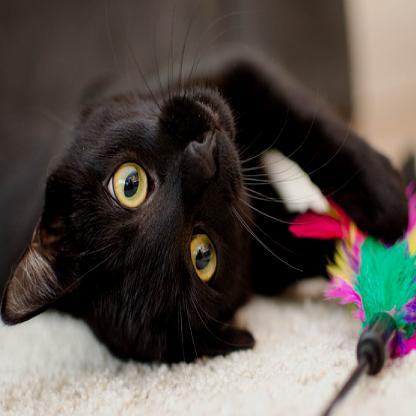cat: (0, 46, 410, 376)
